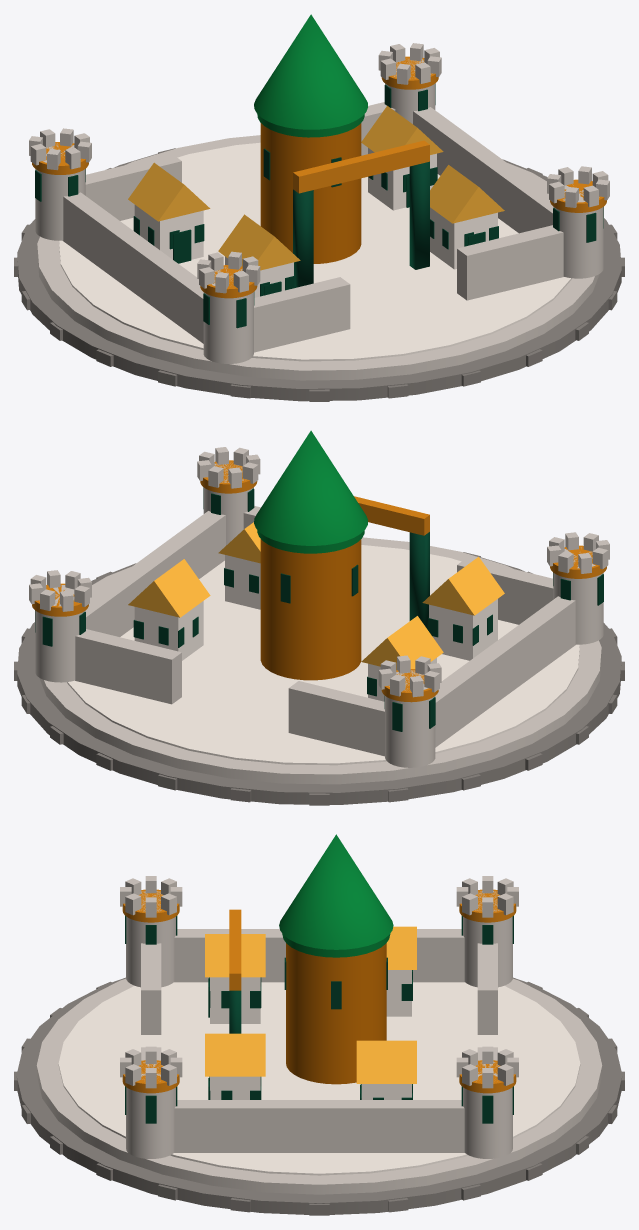
Rendered from city_outside.glb.
The picture shows the model from 3 angles, top to bottom: view 1: azimuth 30°, elevation 25°; view 2: azimuth 150°, elevation 25°; view 3: azimuth 270°, elevation 25°; orthographic projection.
Visible parts, largest first — view 1: city-floor_grey, curtain-wall_white, corner-tower_white, lower-plinth_stone, upper-plinth_white, gate-wall_white, frontier-spire_white, courtyard-building_green, frontier-spire_grey, courtyard-building_white, open-gate-lintel_stone, plinth-tooth_stone (+6 smaller); view 2: city-floor_grey, curtain-wall_white, corner-tower_white, lower-plinth_stone, upper-plinth_white, frontier-spire_white, courtyard-building_green, frontier-spire_grey, courtyard-building_white, gate-wall_white, plinth-tooth_stone, corner-tower_stone (+6 smaller); view 3: city-floor_grey, curtain-wall_white, corner-tower_white, upper-plinth_white, lower-plinth_stone, frontier-spire_white, courtyard-building_green, frontier-spire_grey, courtyard-building_white, corner-tower_stone, plinth-tooth_stone, gate-wall_white (+5 smaller).
Part boxes in pixels (bbox=[...]): city-floor_grey: bbox=[59, 142, 571, 361]; curtain-wall_white: bbox=[63, 102, 553, 343]; corner-tower_white: bbox=[29, 43, 609, 363]; lower-plinth_stone: bbox=[17, 149, 621, 401]; upper-plinth_white: bbox=[37, 135, 599, 380]; gate-wall_white: bbox=[254, 225, 563, 352]; frontier-spire_white: bbox=[260, 123, 361, 263]; courtyard-building_green: bbox=[128, 105, 504, 270]; frontier-spire_grey: bbox=[254, 14, 367, 129]; courtyard-building_white: bbox=[134, 148, 497, 297]; open-gate-lintel_stone: bbox=[293, 140, 429, 193]; plinth-tooth_stone: bbox=[14, 148, 624, 401]; city-floor_grey: bbox=[67, 545, 579, 765]; curtain-wall_white: bbox=[75, 511, 575, 756]; corner-tower_white: bbox=[29, 447, 609, 767]; lower-plinth_stone: bbox=[17, 553, 621, 804]; upper-plinth_white: bbox=[39, 537, 601, 784]; frontier-spire_white: bbox=[260, 539, 361, 680]; courtyard-building_green: bbox=[128, 522, 504, 670]; frontier-spire_grey: bbox=[254, 430, 367, 545]; courtyard-building_white: bbox=[134, 555, 497, 701]; gate-wall_white: bbox=[243, 506, 553, 624]; plinth-tooth_stone: bbox=[14, 552, 624, 805]; corner-tower_stone: bbox=[32, 460, 606, 702]; city-floor_grey: bbox=[58, 982, 580, 1175]; curtain-wall_white: bbox=[174, 929, 497, 1152]; corner-tower_white: bbox=[120, 876, 518, 1158]; upper-plinth_white: bbox=[36, 978, 602, 1194]; lower-plinth_stone: bbox=[16, 977, 622, 1214]; frontier-spire_white: bbox=[286, 943, 386, 1084]; courtyard-building_green: bbox=[205, 926, 416, 1083]; frontier-spire_grey: bbox=[279, 834, 393, 949]; courtyard-building_white: bbox=[210, 970, 411, 1099]; corner-tower_stone: bbox=[122, 889, 516, 1093]; plinth-tooth_stone: bbox=[14, 981, 624, 1215]; gate-wall_white: bbox=[141, 943, 161, 1060].
Size of the model in its own units: 23.59 by 10.79 by 23.59.
